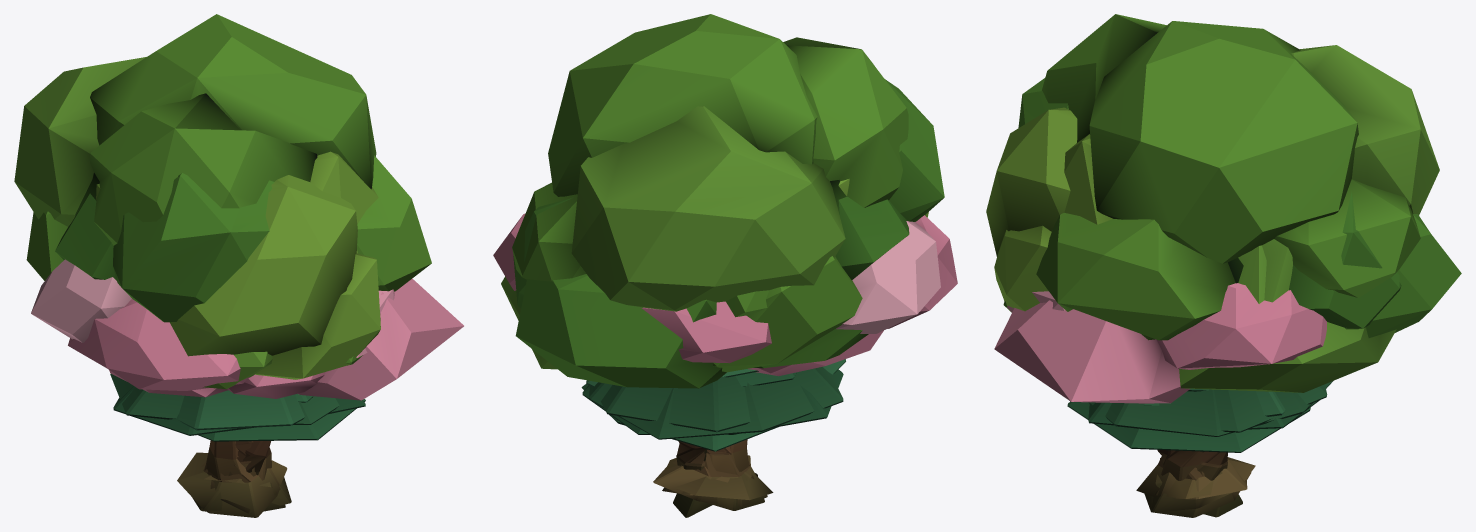
File: trees.glb
3 renders of one model, left to right at view 1: azimuth 30°, elevation 25°; view 2: azimuth 150°, elevation 25°; view 3: azimuth 270°, elevation 25°, orthographic. The views are drawn at different scales.
Visible parts, largest first — view 1: oak_2, oak_0, oak_4, blossom_0, blossom_1, oak_3, oak_1, pine_4, pine_3, pine_0, pine_2; view 2: oak_2, oak_1, blossom_0, oak_4, pine_3, pine_1, blossom_1, pine_2, oak_3, oak_0, pine_0; view 3: oak_2, oak_3, blossom_1, oak_0, oak_1, pine_3, pine_0, pine_1, blossom_0, oak_4, pine_2.
Part boxes in pixels (bbox=[...]): oak_2: bbox=[14, 14, 378, 517]; oak_0: bbox=[170, 175, 380, 511]; oak_4: bbox=[55, 173, 274, 322]; blossom_0: bbox=[31, 259, 394, 487]; blossom_1: bbox=[109, 278, 463, 475]; oak_3: bbox=[201, 155, 431, 513]; oak_1: bbox=[26, 184, 362, 510]; pine_4: bbox=[178, 390, 304, 430]; pine_3: bbox=[110, 374, 339, 424]; pine_0: bbox=[198, 394, 365, 441]; pine_2: bbox=[113, 386, 365, 435]; oak_2: bbox=[512, 14, 908, 506]; oak_1: bbox=[515, 179, 868, 500]; blossom_0: bbox=[641, 215, 957, 517]; oak_4: bbox=[726, 79, 944, 317]; pine_3: bbox=[589, 367, 843, 461]; pine_1: bbox=[601, 376, 750, 432]; blossom_1: bbox=[493, 213, 883, 376]; pine_2: bbox=[582, 369, 843, 434]; oak_3: bbox=[501, 197, 757, 495]; oak_0: bbox=[665, 212, 928, 510]; pine_0: bbox=[581, 384, 778, 451]; oak_2: bbox=[1042, 14, 1439, 499]; oak_3: bbox=[1036, 191, 1401, 517]; blossom_1: bbox=[994, 283, 1326, 466]; oak_0: bbox=[986, 107, 1213, 498]; oak_1: bbox=[1003, 214, 1461, 512]; pine_3: bbox=[1088, 381, 1332, 436]; pine_0: bbox=[1067, 401, 1310, 452]; pine_1: bbox=[1214, 384, 1327, 432]; blossom_0: bbox=[1007, 291, 1242, 517]; oak_4: bbox=[1018, 78, 1068, 127]; pine_2: bbox=[1088, 388, 1319, 429].
Bounding box in the file's own units: 8.82 × 10.29 × 9.5.
